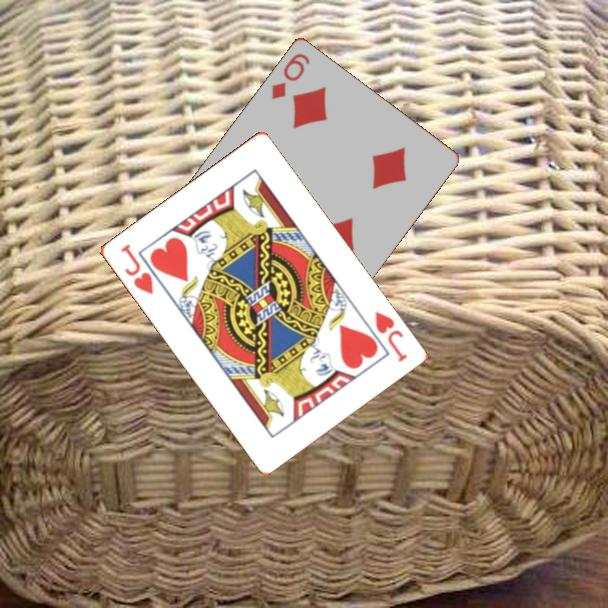d06: (268, 49, 313, 102)
h11: (116, 240, 156, 298), (371, 308, 410, 365)
